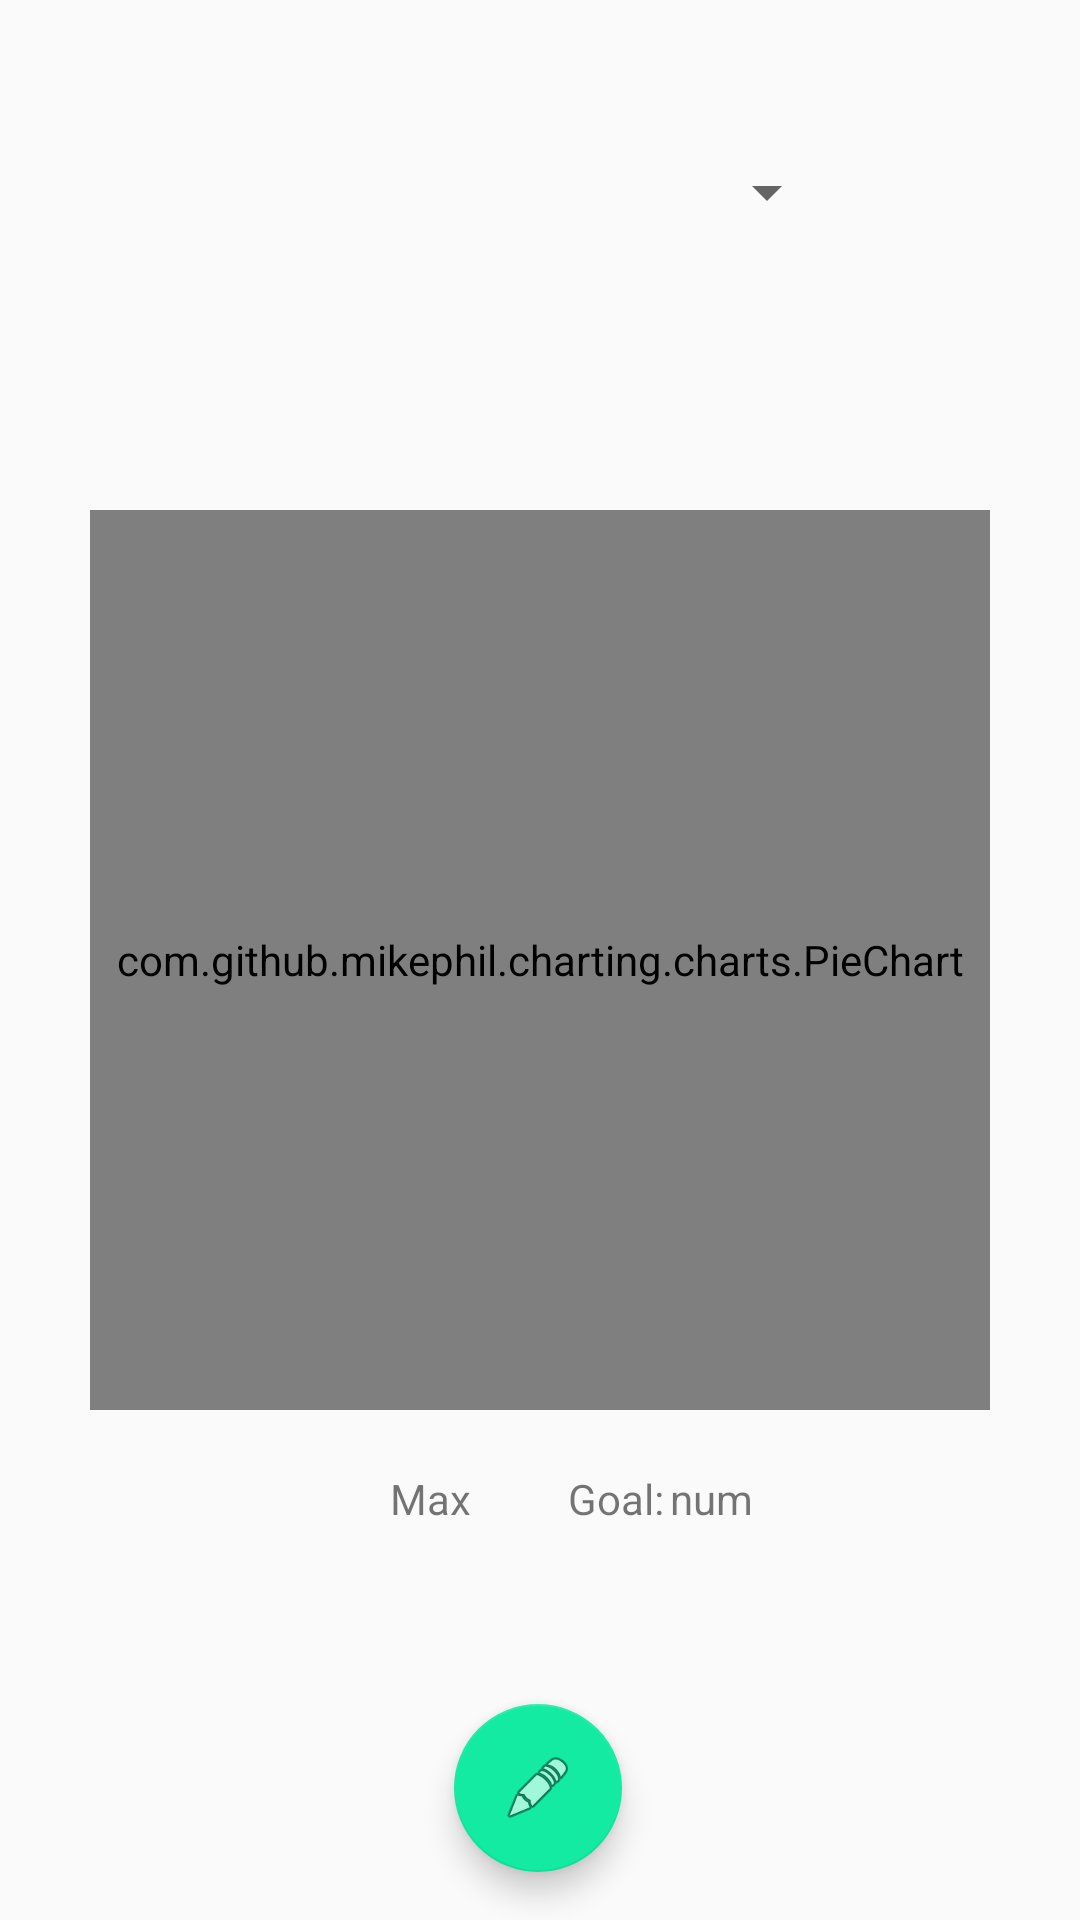

Icons on this 1080x1920 Android screen, each with the point to tap as (x,y):
edit: (538,1788)
